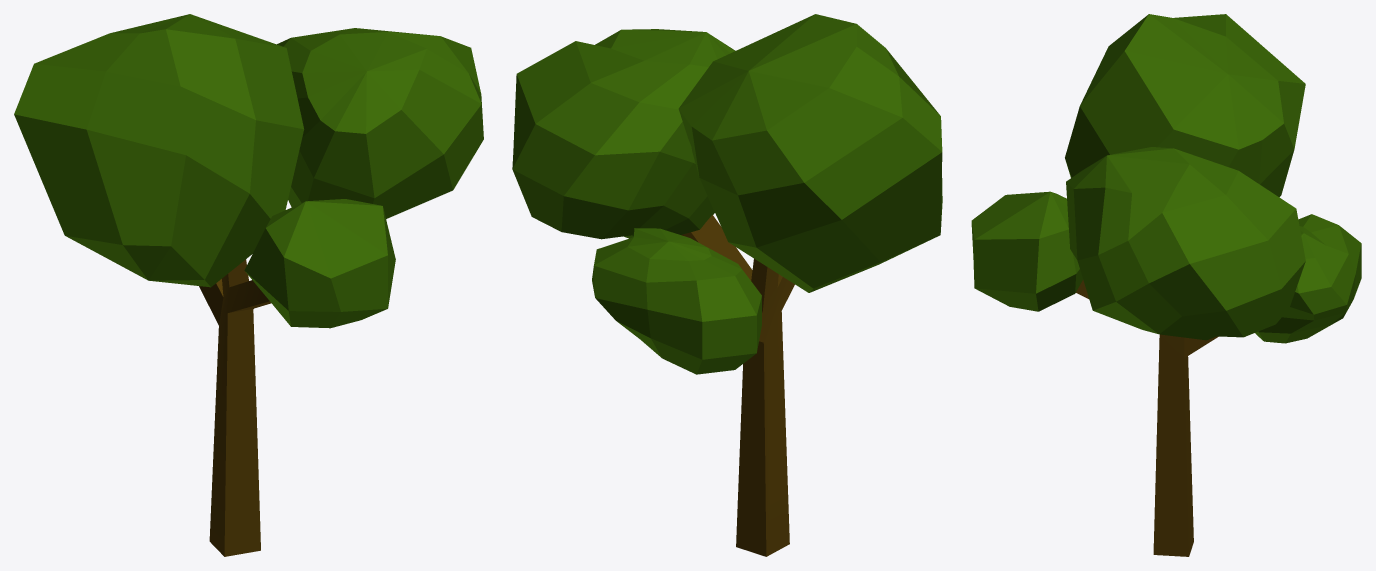
Rendered from weebltreeround.fbx.
The picture shows the model from 3 angles, left to right: view 1: azimuth 30°, elevation 25°; view 2: azimuth 150°, elevation 25°; view 3: azimuth 270°, elevation 25°; orthographic projection. The views are drawn at different scales.
Parts seen in each view (by area): view 1: polySurface7; view 2: polySurface7; view 3: polySurface7.
Boxes of the visible parts, x1,y1,x2,y2 form: polySurface7: [14, 14, 483, 556]; polySurface7: [512, 14, 942, 556]; polySurface7: [971, 14, 1361, 556].
Size of the model in its own units: 245 by 286 by 203.
